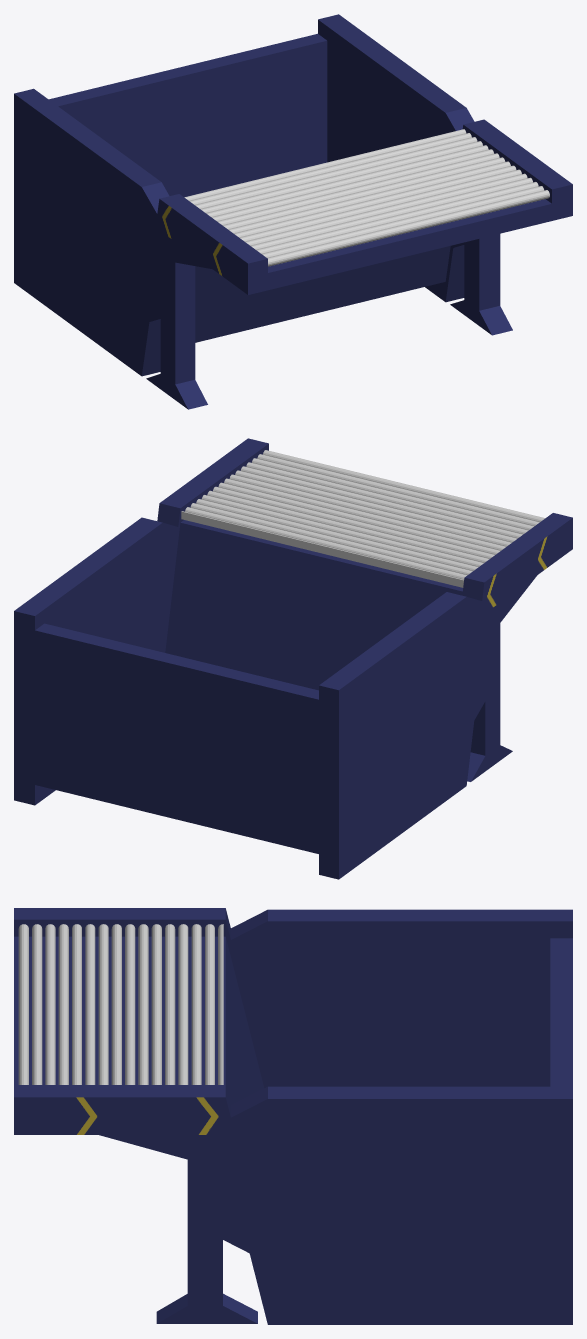
Rendered from ExportedBlenderFBXFile.fbx.
3 views of the same model, one above another, from view 1: azimuth 30°, elevation 25°; view 2: azimuth 150°, elevation 25°; view 3: azimuth 270°, elevation 25° (orthographic). The views are drawn at different scales.
Visible parts, largest first — view 1: ConveyorBody_002, Movers_002; view 2: ConveyorBody_002, Movers_002; view 3: ConveyorBody_002, Movers_002.
Part boxes in pixels (x1,y1,x2,y2): ConveyorBody_002: (14,14,572,409); Movers_002: (184,129,549,266); ConveyorBody_002: (14,438,572,879); Movers_002: (181,450,545,587); ConveyorBody_002: (14,908,572,1324); Movers_002: (18,924,223,1084).
Bounding box in the file's own units: 4.41 × 2.47 × 5.5.
